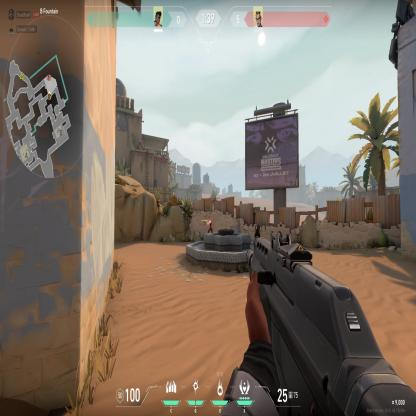enemy: (206, 216, 213, 232)
